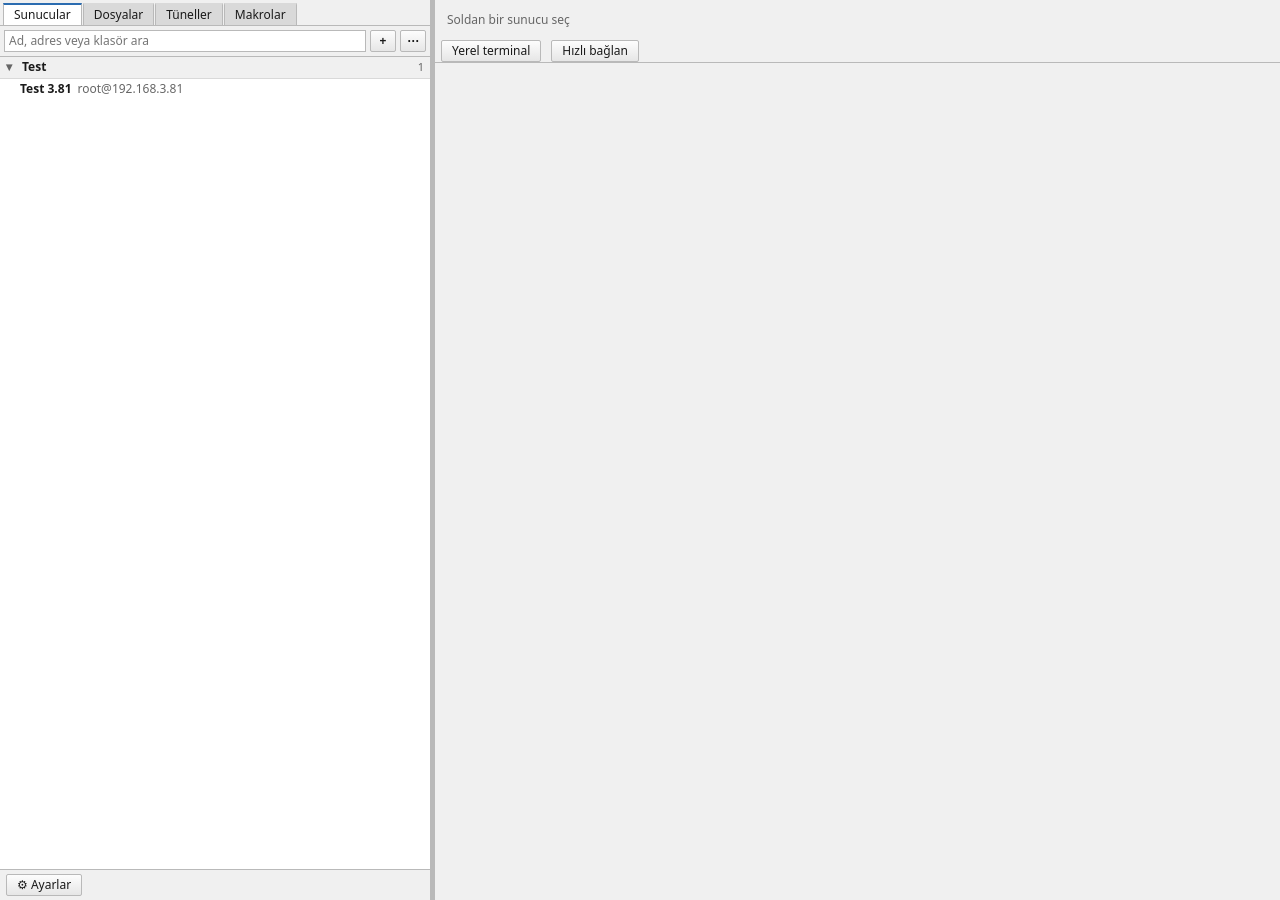
Test case: closing a tab removes it
Double-click the button "Test 3.81 root@192.168.3.81" at coordinates (46, 88), box [0, 79, 390, 99]
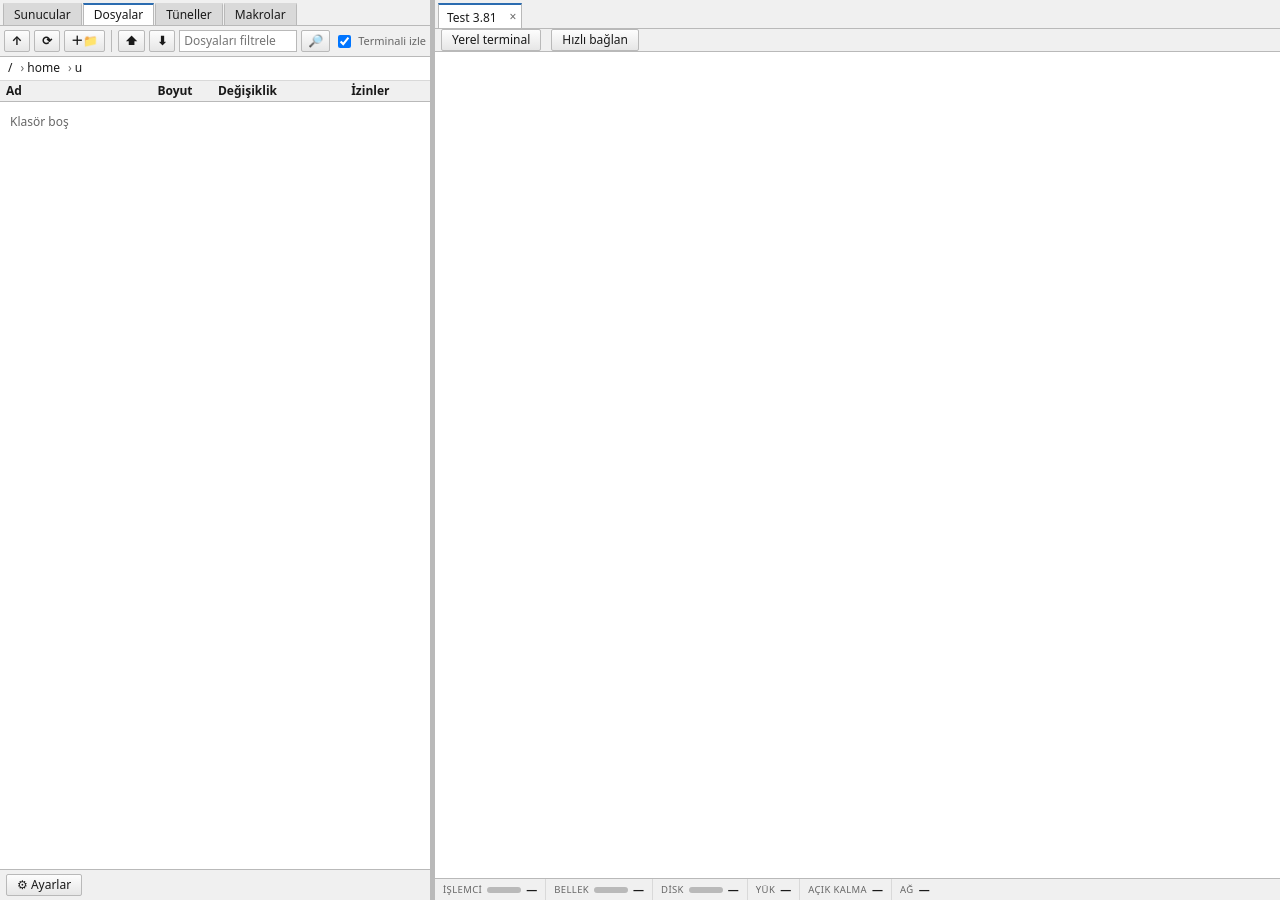
Click the button named "Test 3.81 kapat" at coordinates (513, 17), box [505, 8, 522, 25]
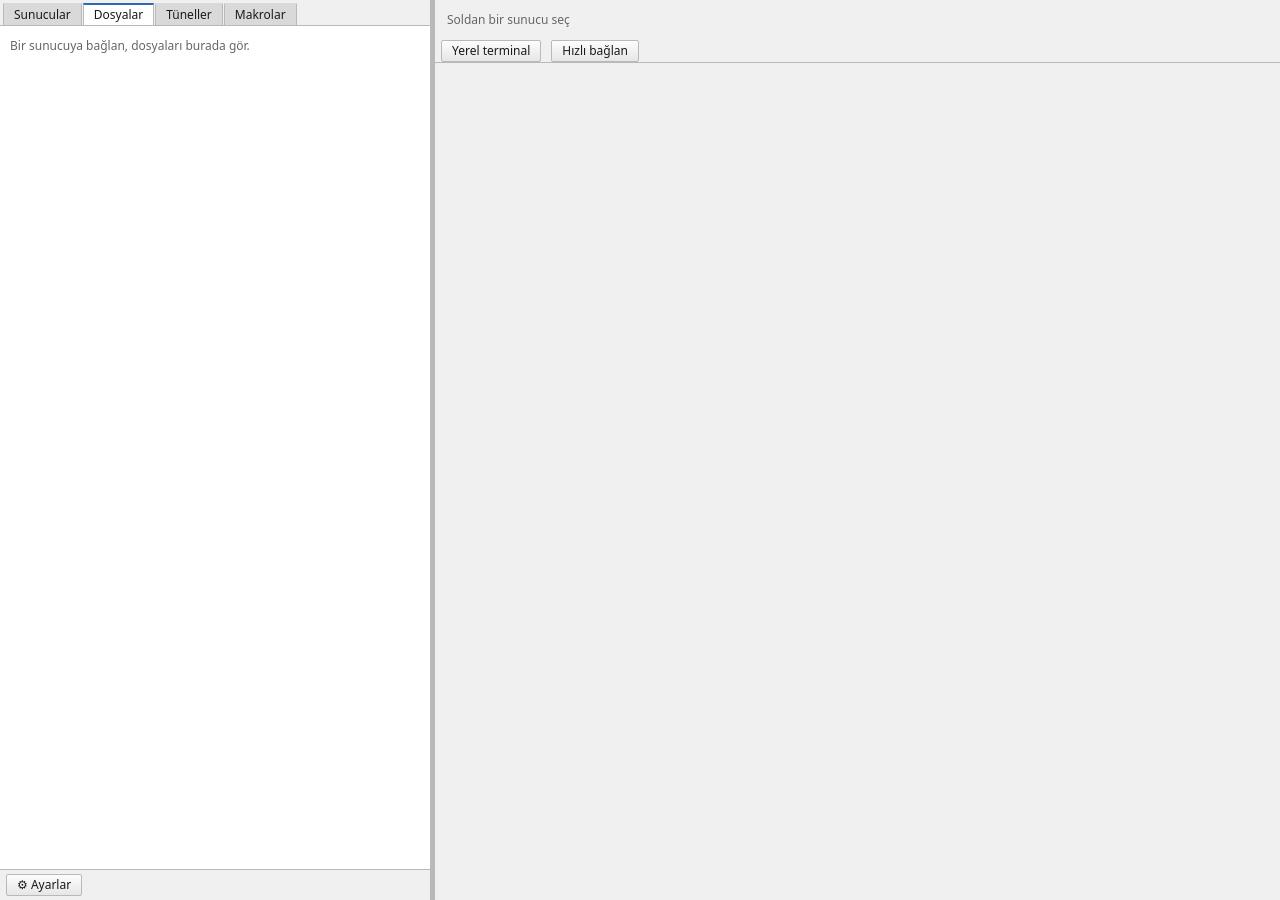
Result: the tab "Test 3.81" is gone
